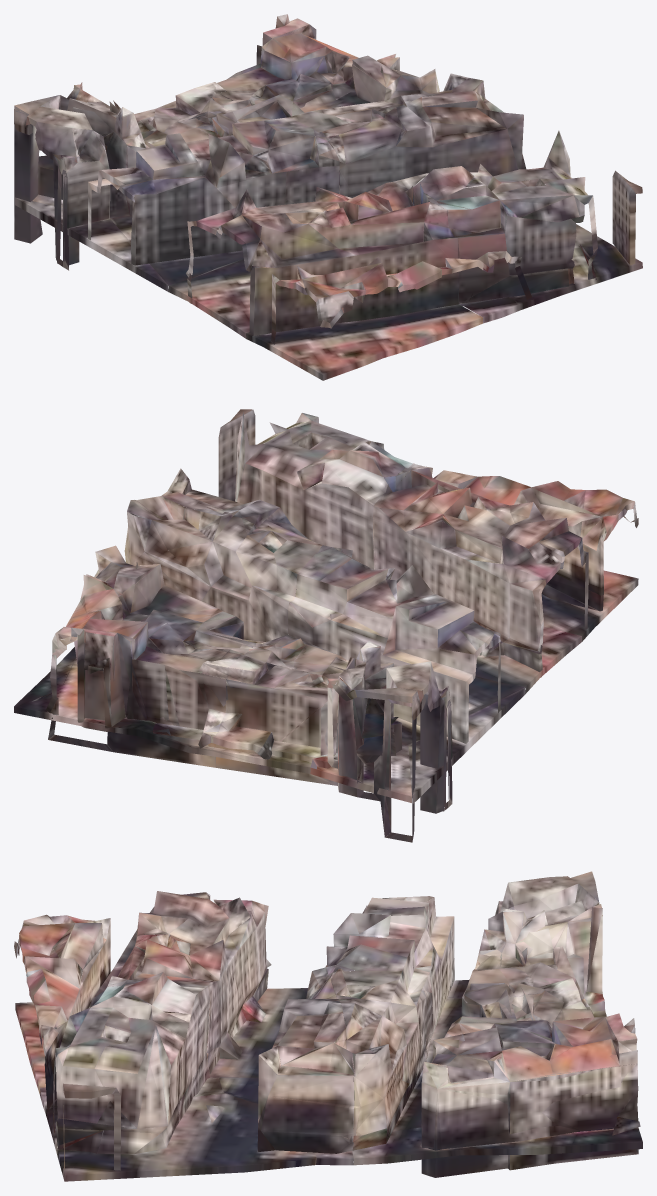
3 renders of one model, top to bottom at view 1: azimuth 30°, elevation 25°; view 2: azimuth 150°, elevation 25°; view 3: azimuth 270°, elevation 25°, orthographic. The views are drawn at different scales.
Parts seen in each view (by area): view 1: Mesh_0; view 2: Mesh_0; view 3: Mesh_0.
Part boxes in pixels (box(x1,y1,x2,y2)): Mesh_0: box(14, 14, 642, 380); Mesh_0: box(14, 409, 638, 842); Mesh_0: box(14, 871, 642, 1181).
Size of the model in its own units: 133 by 55.53 by 165.
Materials: 2 (2 with a texture image).
